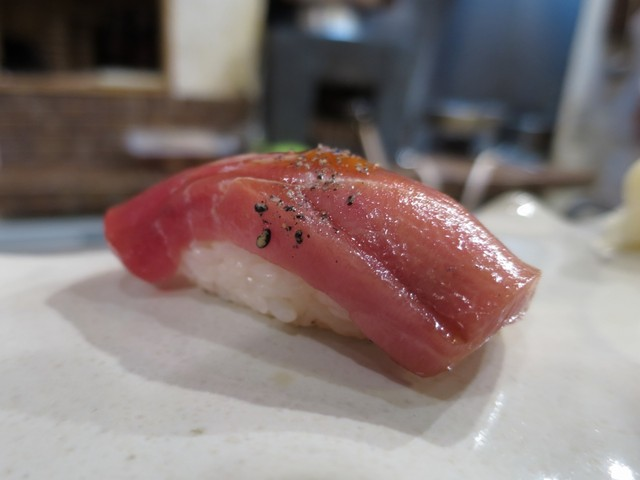medium_fatty_tuna: (116, 147, 538, 376)
